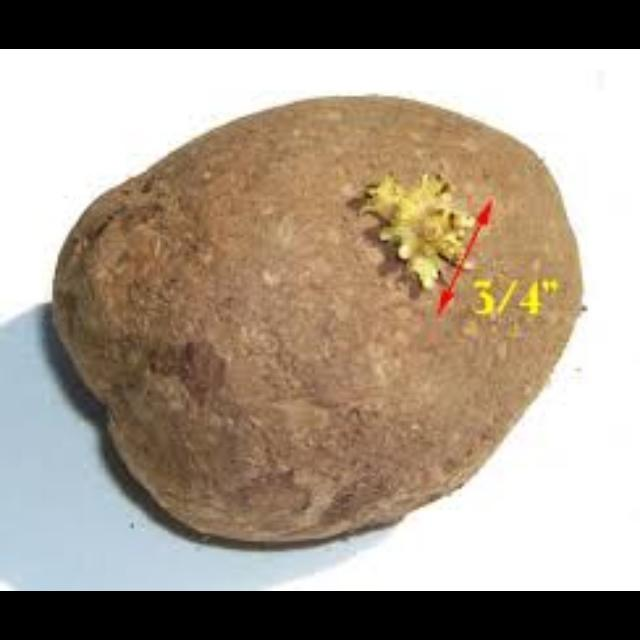Sprouted potato: (54, 66, 608, 560)
